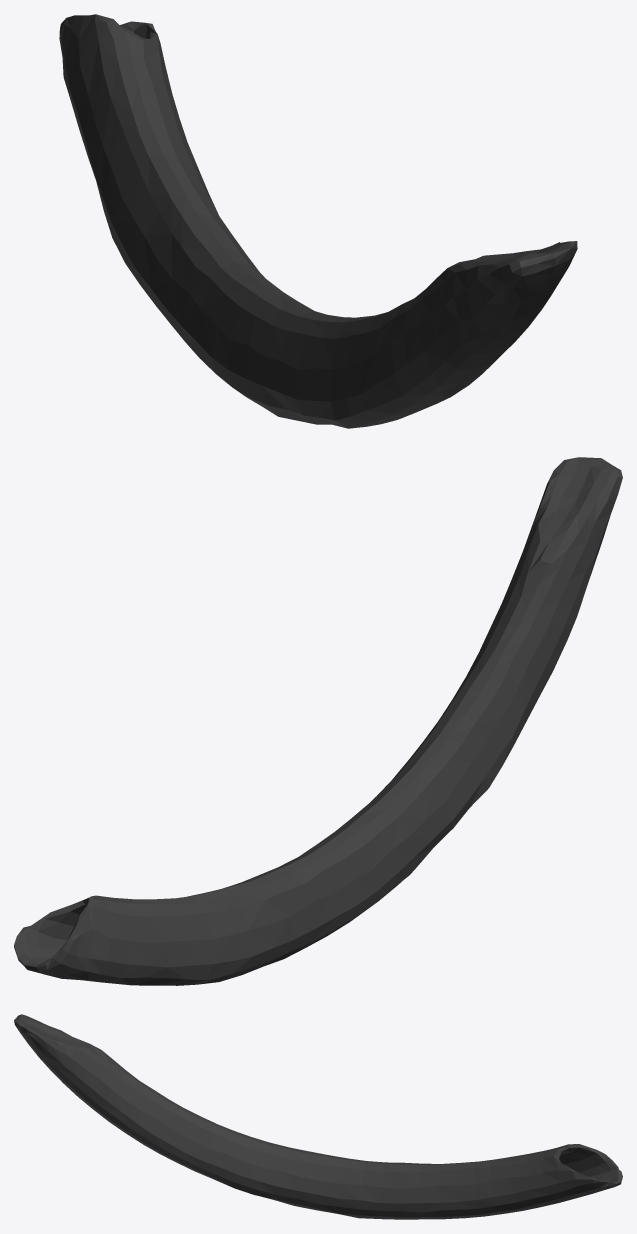
File: Incisor_bottom_1.glb
3 renders of one model, top to bottom at view 1: azimuth 30°, elevation 25°; view 2: azimuth 150°, elevation 25°; view 3: azimuth 270°, elevation 25°, orthographic. The views are drawn at different scales.
Parts seen in each view (by area): view 1: Incisor_bottom_1; view 2: Incisor_bottom_1; view 3: Incisor_bottom_1.
Part boxes in pixels (x1,y1,x2,y2): Incisor_bottom_1: [59, 14, 577, 428]; Incisor_bottom_1: [14, 457, 622, 985]; Incisor_bottom_1: [14, 1014, 622, 1219].
Bounding box in the file's own units: 0.4237 × 0.7065 × 2.07.
1 material, 1 textured.
